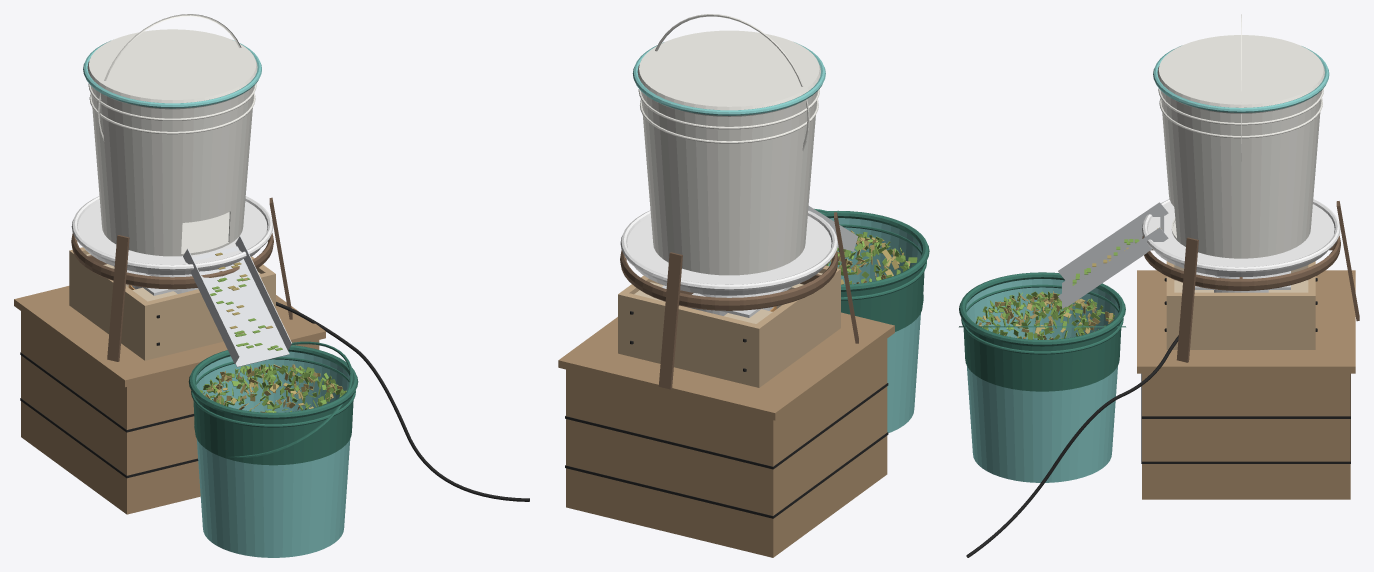
The model's file is pencacah-daun.glb.
The picture shows the model from 3 angles, left to right: view 1: azimuth 30°, elevation 25°; view 2: azimuth 150°, elevation 25°; view 3: azimuth 270°, elevation 25°; orthographic projection. The views are drawn at different scales.
Visible parts, largest first — view 1: Peti_Kayu, Ember_Atas, Ember_Bawah, Ember_Atas_Tutup, Peti_TutupAtas, Ember_Bawah_PitaHijau, Corong_Seng, Cacahan_Daun, KotakMotor_DindingDepan, Piringan_Dudukan, KotakMotor_DindingKiri, Ember_Bawah_Bibir (+10 smaller); view 2: Peti_Kayu, Ember_Atas, Ember_Atas_Tutup, Peti_TutupAtas, KotakMotor_DindingBelakang, Ember_Bawah, Piringan_Dudukan, KotakMotor_DindingKiri, Dudukan_Ring, Ember_Bawah_PitaHijau, Piringan_Bibir, Dudukan_Kaki_0 (+12 smaller); view 3: Peti_Kayu, Ember_Atas, Ember_Bawah, Peti_TutupAtas, Ember_Atas_Tutup, KotakMotor_DindingKanan, Ember_Bawah_PitaHijau, Cacahan_Daun, Piringan_Dudukan, Ember_Bawah_Bibir, Dudukan_Ring, Corong_Sisi_1 (+15 smaller).
Boxes of the visible parts, <box> form: Peti_Kayu: <box>21,311,319,514</box>; Ember_Atas: <box>90,85,254,256</box>; Ember_Bawah: <box>196,351,350,557</box>; Ember_Atas_Tutup: <box>87,29,257,103</box>; Peti_TutupAtas: <box>14,286,325,387</box>; Ember_Bawah_PitaHijau: <box>193,395,353,465</box>; Corong_Seng: <box>192,246,289,367</box>; Cacahan_Daun: <box>199,252,346,412</box>; KotakMotor_DindingDepan: <box>141,271,275,360</box>; Piringan_Dudukan: <box>77,201,267,275</box>; KotakMotor_DindingKiri: <box>73,253,147,357</box>; Ember_Bawah_Bibir: <box>188,345,358,419</box>; Peti_Kayu: <box>566,339,887,557</box>; Ember_Atas: <box>641,91,817,275</box>; Ember_Atas_Tutup: <box>637,30,820,110</box>; Peti_TutupAtas: <box>558,312,894,420</box>; KotakMotor_DindingBelakang: <box>618,291,763,387</box>; Ember_Bawah: <box>828,218,921,433</box>; Piringan_Dudukan: <box>627,216,831,295</box>; KotakMotor_DindingKiri: <box>756,272,836,384</box>; Dudukan_Ring: <box>620,250,838,310</box>; Ember_Bawah_PitaHijau: <box>841,266,924,331</box>; Piringan_Bibir: <box>620,210,837,290</box>; Dudukan_Kaki_0: <box>658,252,682,389</box>; Peti_Kayu: <box>1142,373,1350,499</box>; Ember_Atas: <box>1160,90,1321,258</box>; Ember_Bawah: <box>966,279,1118,482</box>; Peti_TutupAtas: <box>1137,270,1355,373</box>; Ember_Atas_Tutup: <box>1157,35,1324,107</box>; KotakMotor_DindingKanan: <box>1174,292,1308,349</box>; Ember_Bawah_PitaHijau: <box>963,322,1121,391</box>; Cacahan_Daun: <box>975,228,1161,339</box>; Piringan_Dudukan: <box>1148,203,1334,276</box>; Ember_Bawah_Bibir: <box>959,272,1125,346</box>; Dudukan_Ring: <box>1142,235,1340,290</box>; Corong_Sisi_1: <box>1058,227,1168,306</box>.
Bounding box in the file's own units: 0.7318 × 0.9585 × 0.807.
